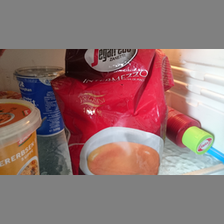coffee: (53, 50, 171, 175)
